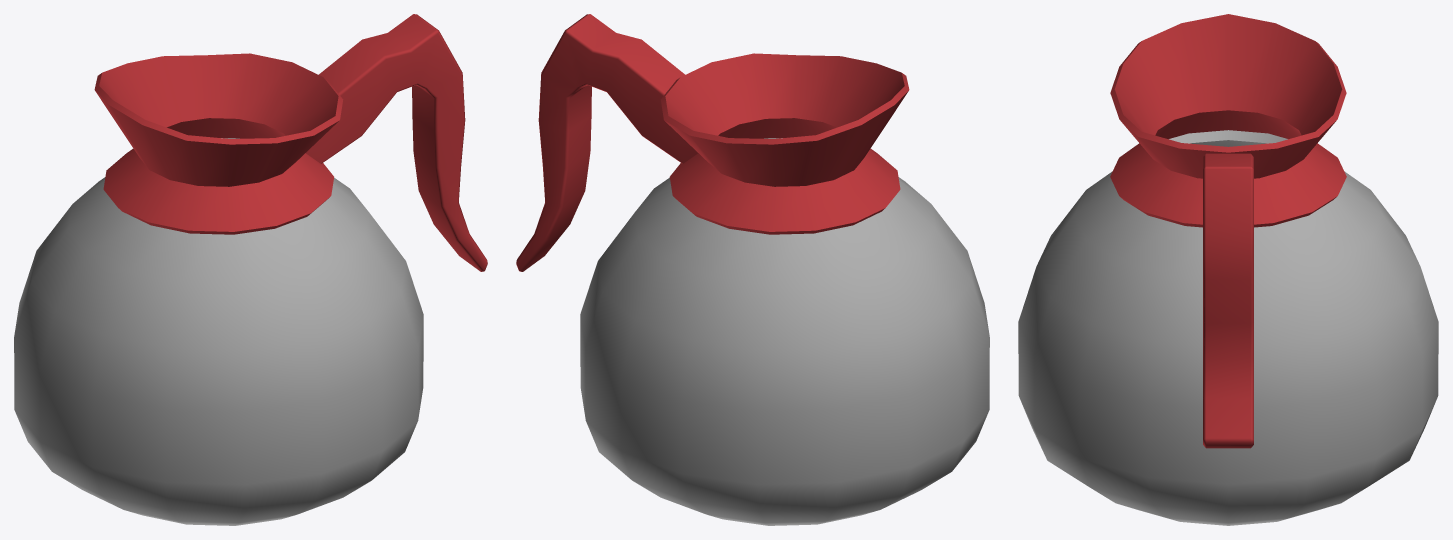
Rendered from Coffee_Pot_01.fbx.
The picture shows the model from 3 angles, left to right: view 1: azimuth 30°, elevation 25°; view 2: azimuth 150°, elevation 25°; view 3: azimuth 270°, elevation 25°; orthographic projection.
Parts seen in each view (by area): view 1: Coffee_Pot_01; view 2: Coffee_Pot_01; view 3: Coffee_Pot_01.
Part boxes in pixels (x1,y1,x2,y2): Coffee_Pot_01: (14, 14, 487, 525); Coffee_Pot_01: (516, 14, 989, 525); Coffee_Pot_01: (1018, 14, 1438, 525).
Size of the model in its own units: 33.72 by 29.61 by 27.6.
